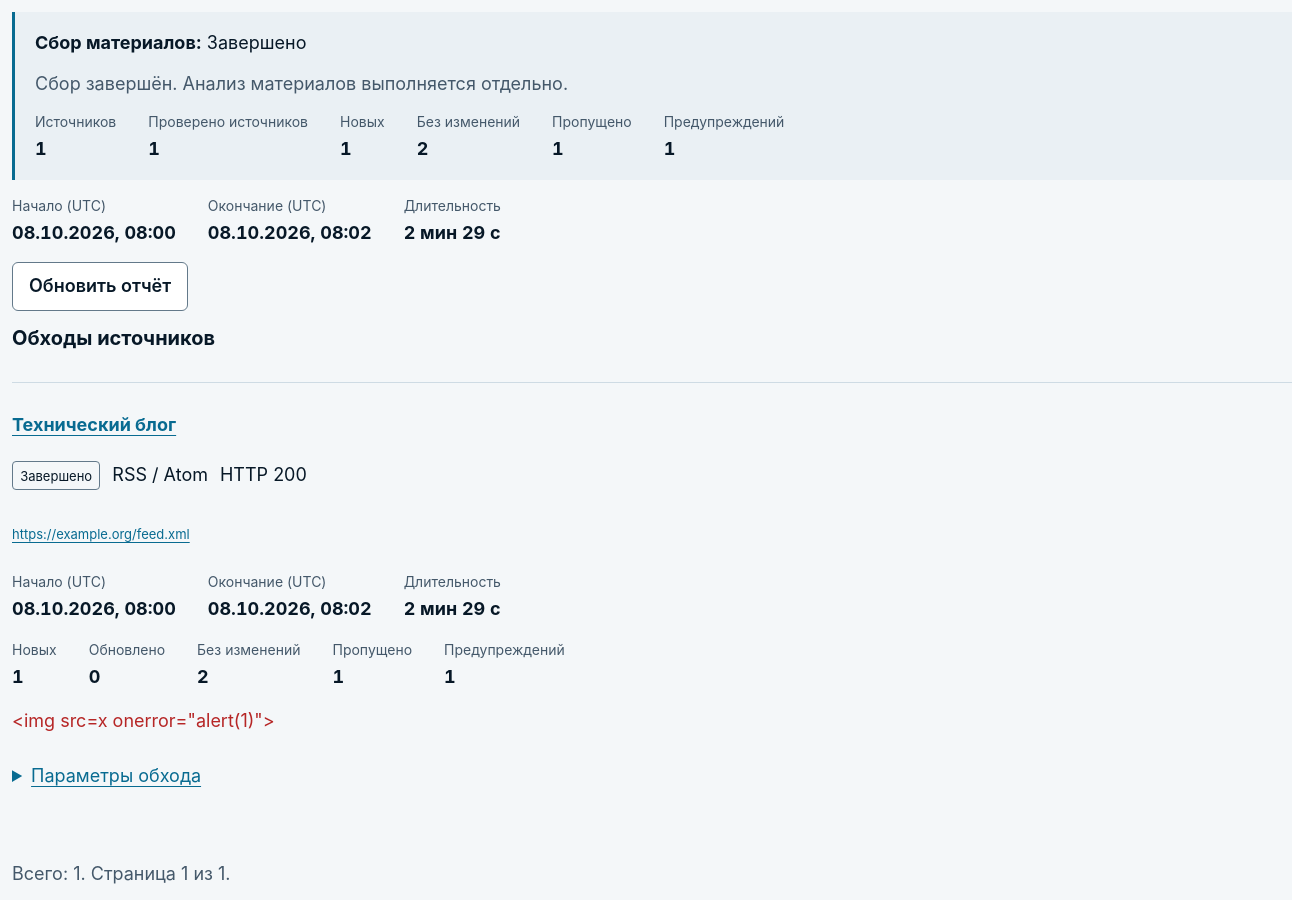
Test case: collection run report › allows only known collection parameters and keeps diagnostics as escaped text
The image size is (1292, 900).
Click the heading "Параметры обхода". click: (116, 775)
box: 31,765 -> 201,786
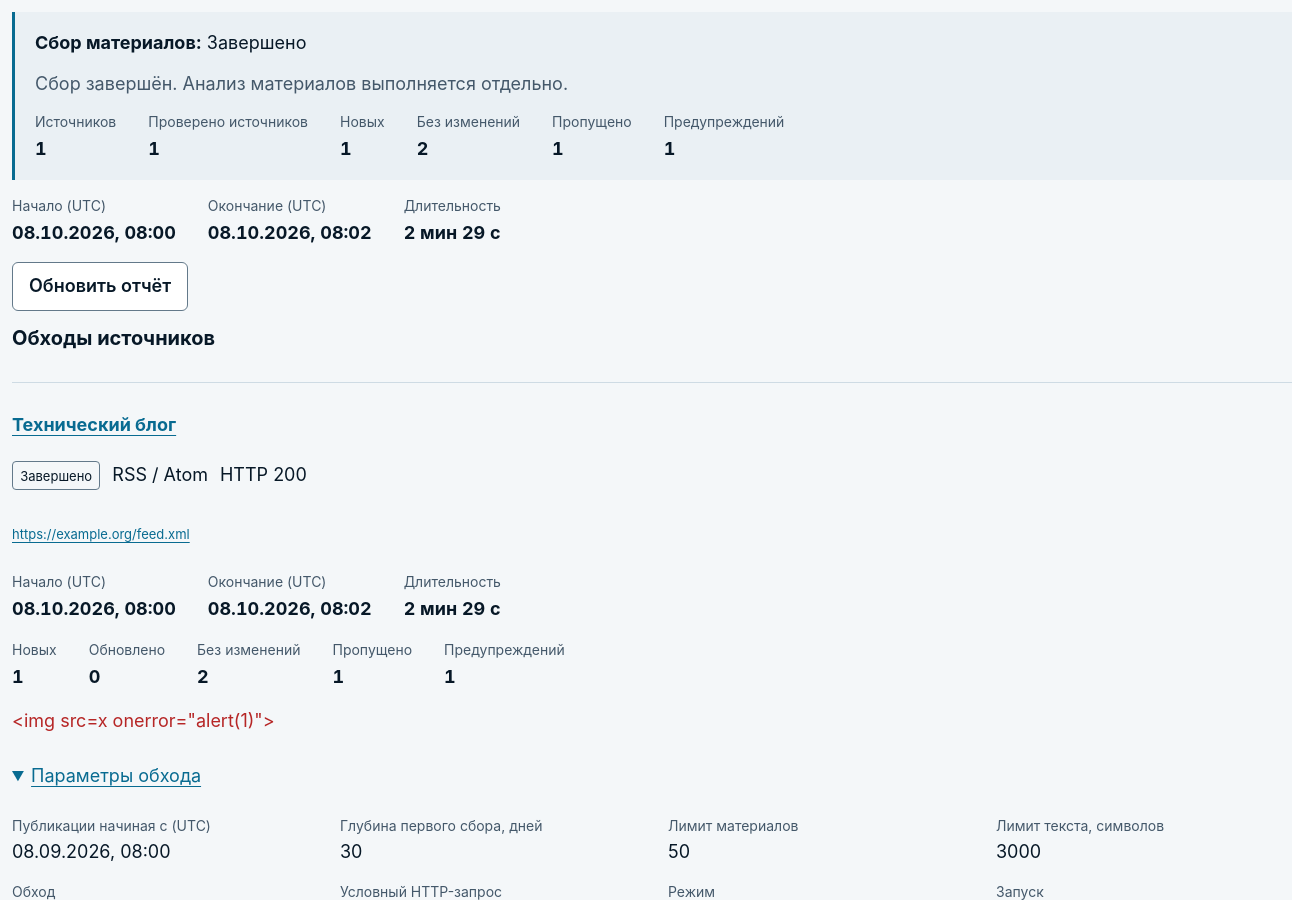
Now the text "Публикации начиная с (UTC)" is shown, box 12,817 -> 211,834
Now the text "Лимит материалов" is shown, box 668,817 -> 798,834
Now the text "Лимит текста, символов" is shown, box 996,817 -> 1164,834
